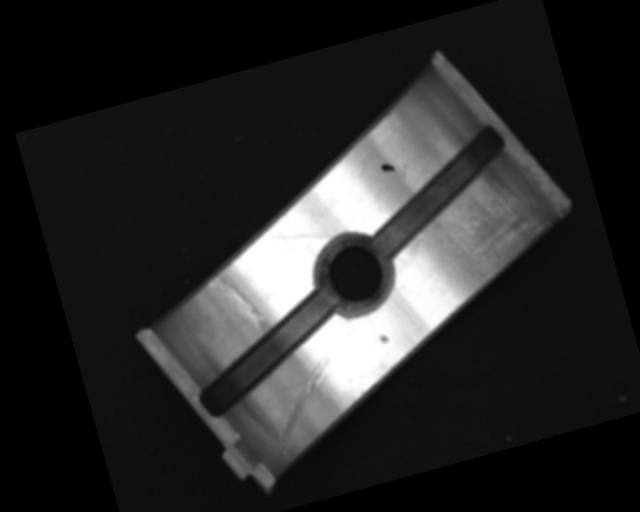blot: (379, 161, 396, 175)
bruise: (378, 333, 389, 344)
gap: (177, 287, 355, 419), (352, 122, 526, 257)
hole: (306, 224, 401, 322)
nick: (260, 356, 353, 460), (205, 265, 269, 343), (256, 216, 335, 257)
scratch: (427, 163, 566, 303)
